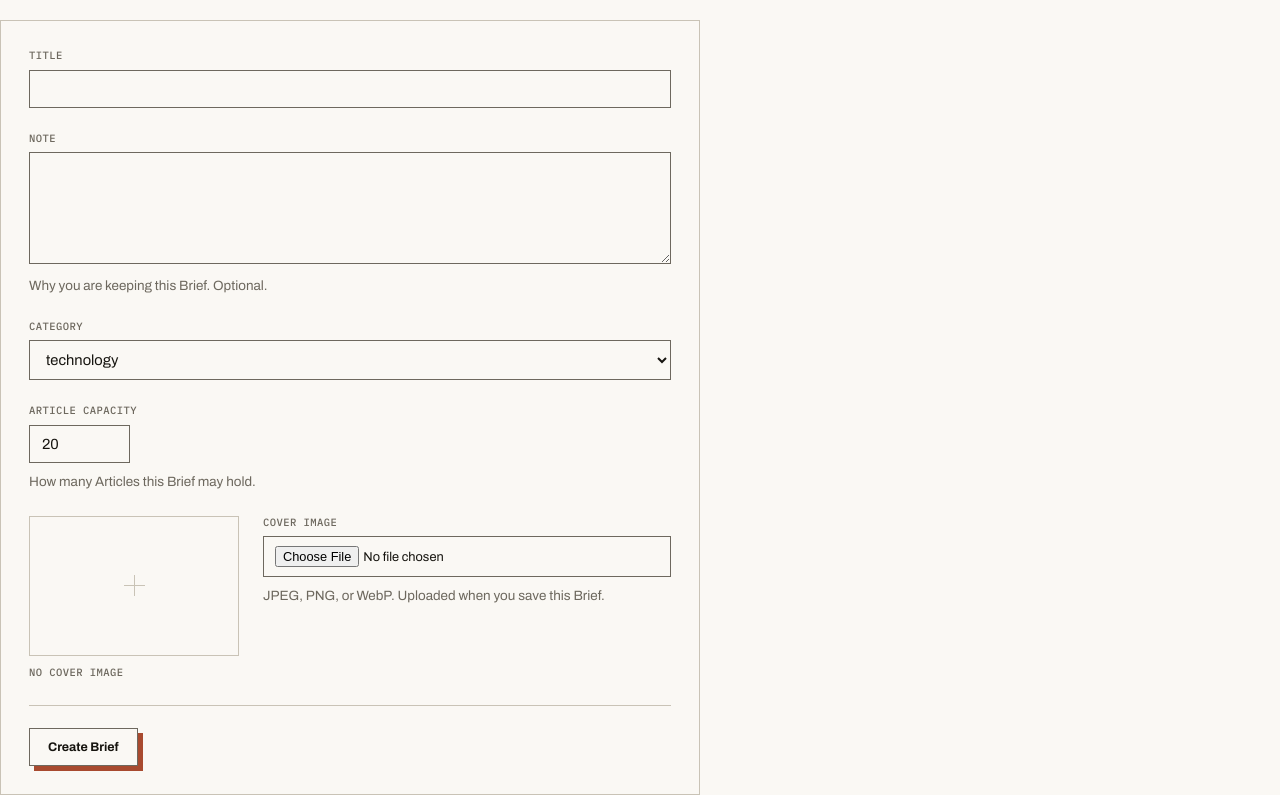
Test: BriefForm — validation › clears a field's error as soon as the field is edited
(page scrolled)
Click the button "Create Brief" at (83, 747), box [29, 728, 138, 766]
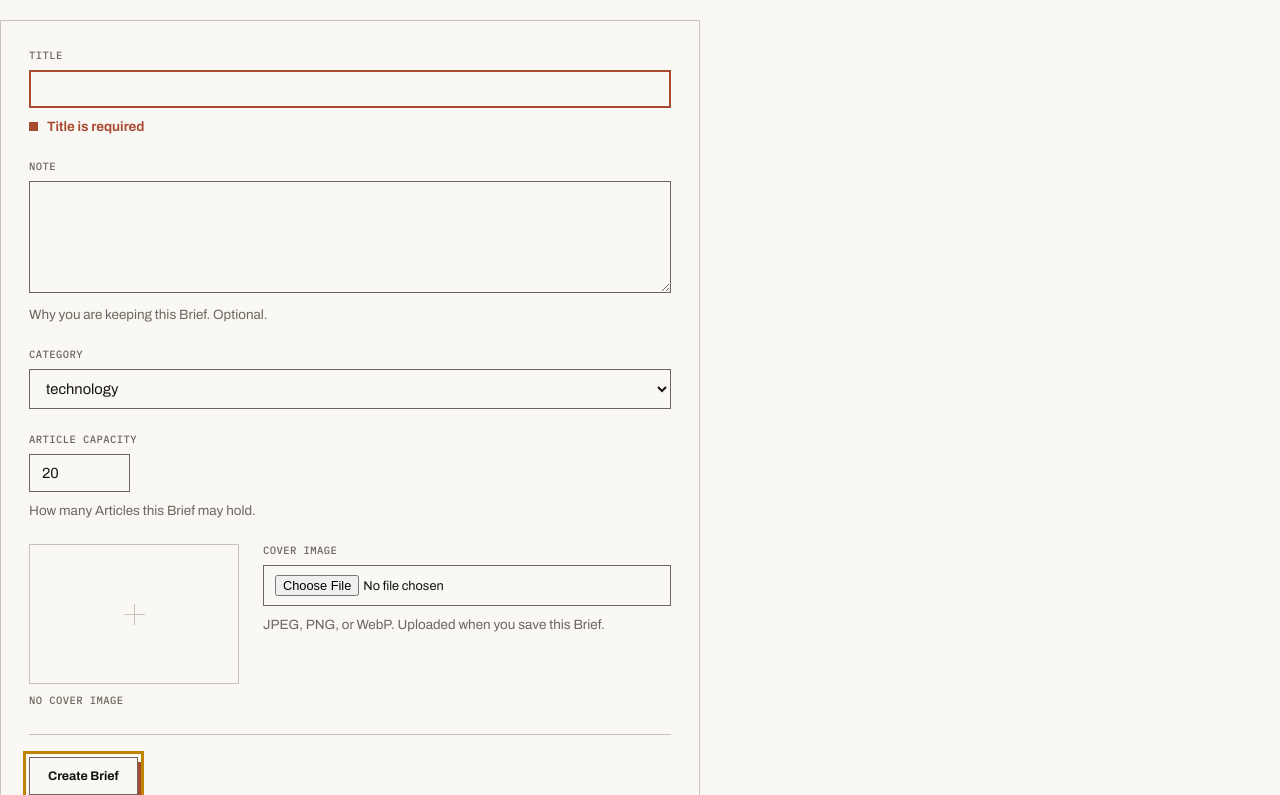
Now the message "Title is required" is shown, box [47, 118, 144, 134]
Type "A" into the field labelled "Title" at (350, 88), box [29, 70, 671, 108]
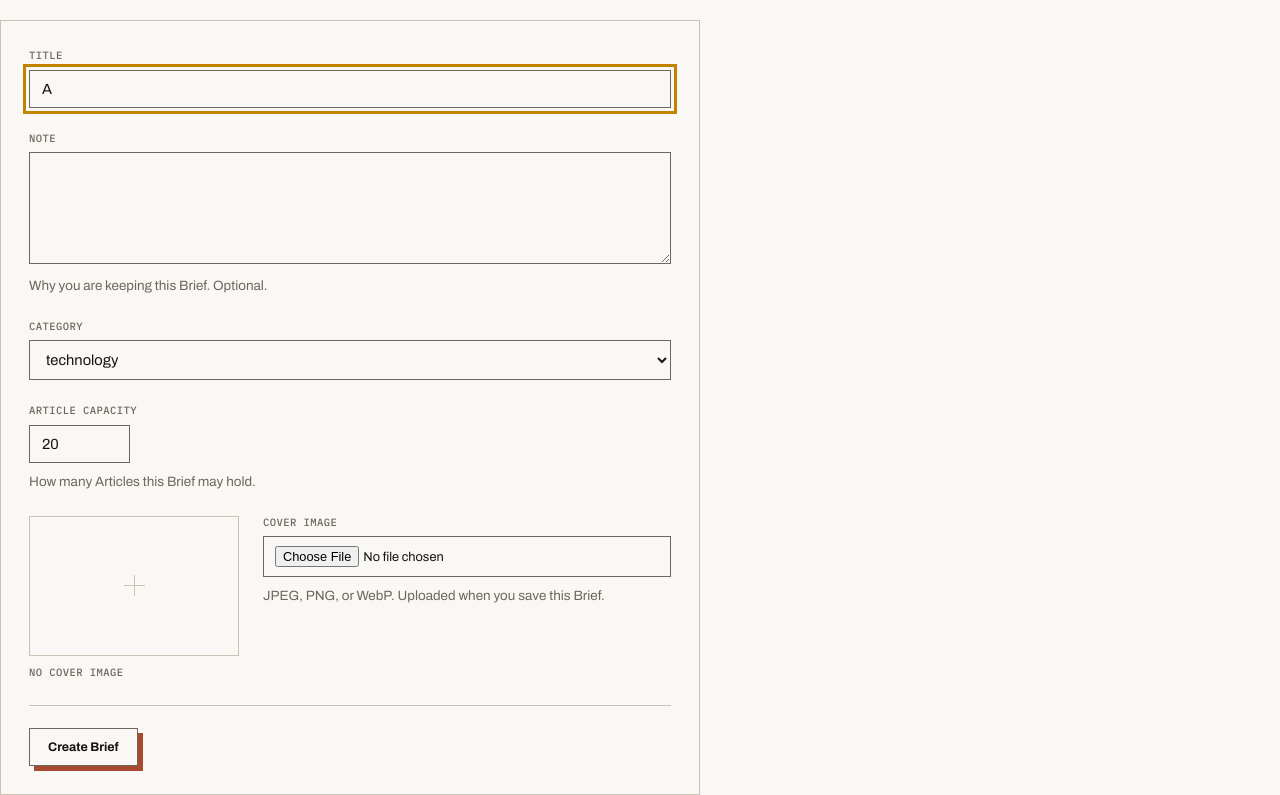
Now the message "Title is required" is gone
